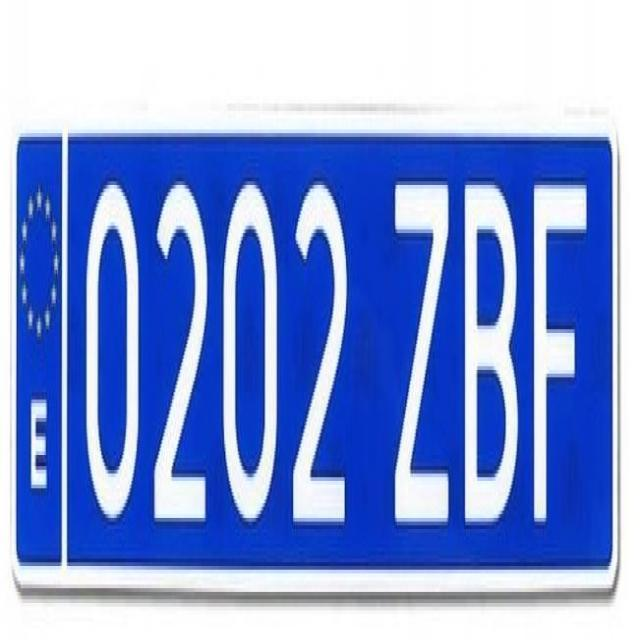licenseplate: (12, 118, 618, 583)
